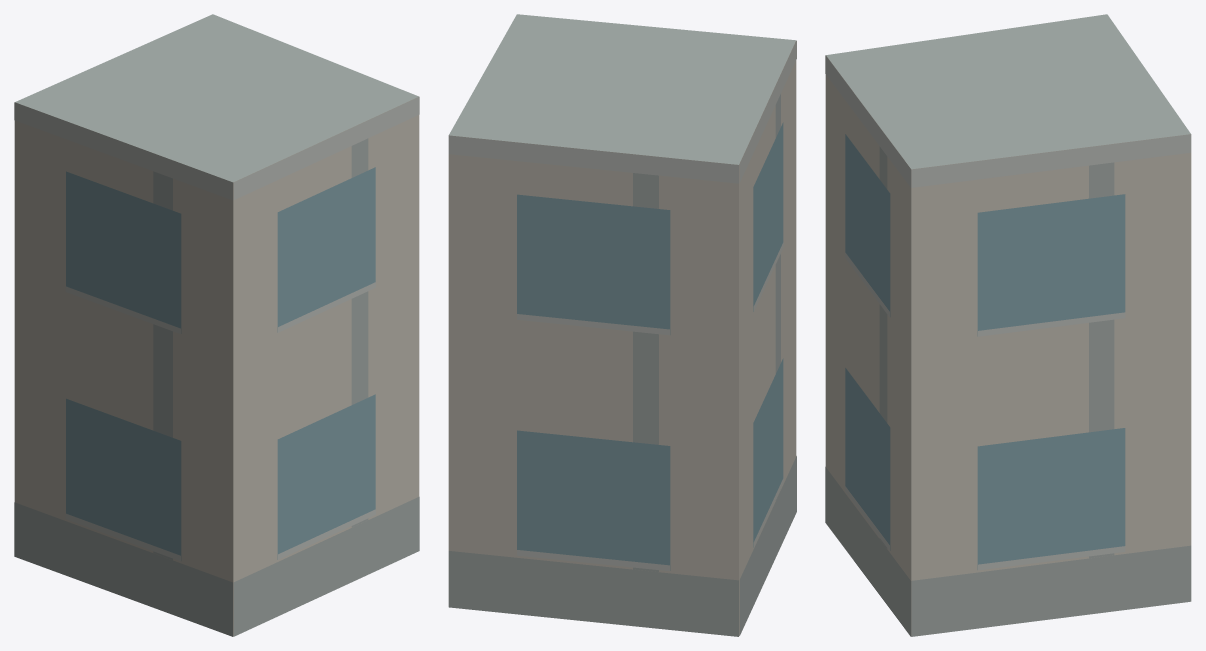
File: survey-upis-32978470.glb
The picture shows the model from 3 angles, left to right: view 1: azimuth 30°, elevation 25°; view 2: azimuth 150°, elevation 25°; view 3: azimuth 270°, elevation 25°; orthographic projection. The views are drawn at different scales.
Parts seen in each view (by area): view 1: survey-upis-32978470.tmp; view 2: survey-upis-32978470.tmp; view 3: survey-upis-32978470.tmp.
Boxes of the visible parts, x1,y1,x2,y2 form: survey-upis-32978470.tmp: (14,14,419,636); survey-upis-32978470.tmp: (448,14,796,636); survey-upis-32978470.tmp: (825,14,1191,636).
Bounding box in the file's own units: 4.35 × 6.1 × 4.33.
